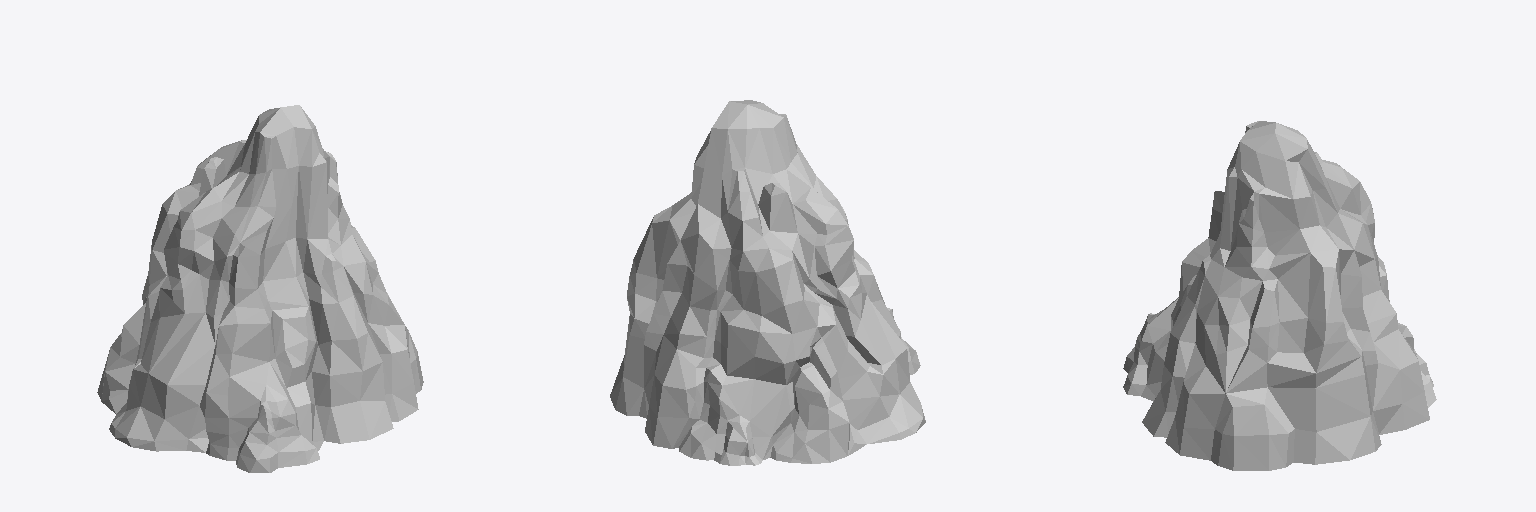
The model's file is rock_002.obj.
3 renders of one model, left to right at view 1: azimuth 30°, elevation 25°; view 2: azimuth 150°, elevation 25°; view 3: azimuth 270°, elevation 25°, orthographic.
Parts seen in each view (by area): view 1: rock_002 rock_002; view 2: rock_002 rock_002; view 3: rock_002 rock_002.
Boxes of the visible parts, box(x1,y1,x2,y2) form: rock_002 rock_002: box(97, 105, 423, 472); rock_002 rock_002: box(610, 100, 925, 465); rock_002 rock_002: box(1123, 121, 1436, 470).
Bounding box in the file's own units: 1259 × 1203 × 1184.